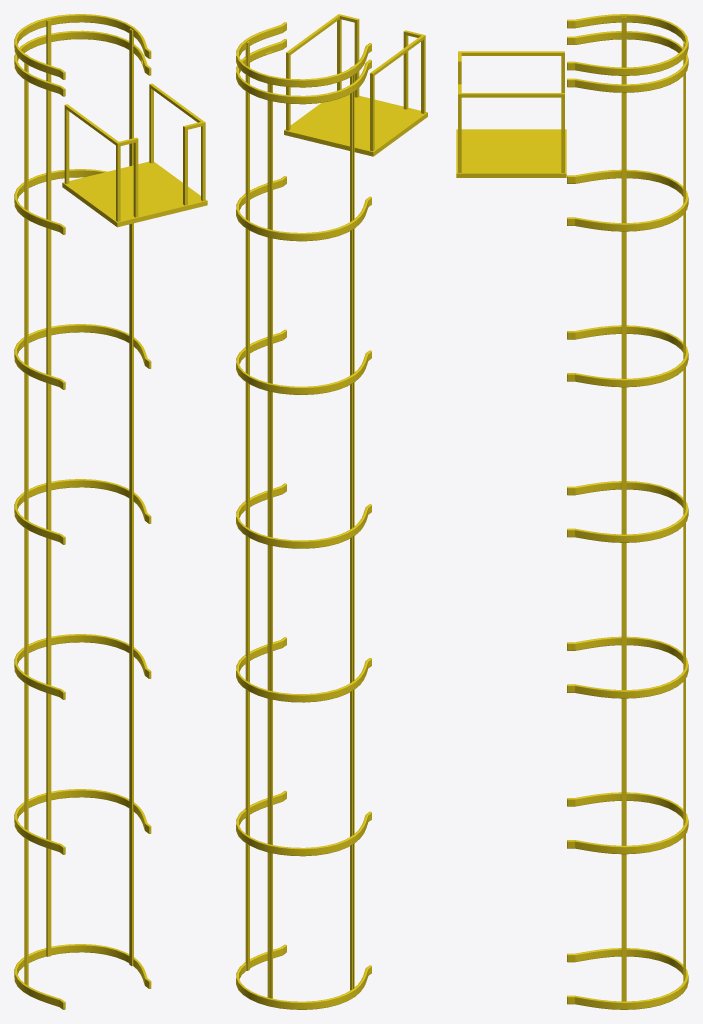
The model's file is LADDER.fbx.
The picture shows the model from 3 angles, left to right: view 1: azimuth 30°, elevation 25°; view 2: azimuth 150°, elevation 25°; view 3: azimuth 270°, elevation 25°; orthographic projection.
Visible parts, largest first — view 1: Monke back suppor.003, vertical strip 2.001, vertical strip 1.001, Cube.014, Monke back suppor.001, Cube.015, Cube.018, Cube.017; view 2: Monke back suppor.003, vertical strip 2.001, vertical strip 1.001, Cube.014, Monke back suppor.001, Cube.015, Cube.018, Cube.017; view 3: Monke back suppor.003, vertical strip 2.001, Cube.014, Monke back suppor.001, vertical strip 1.001, Cube.018, Cube.015.
Part boxes in pixels (box(x1,y1,x2,y2)): Monke back suppor.003: box(14, 169, 151, 1009); vertical strip 2.001: box(24, 28, 133, 985); vertical strip 1.001: box(46, 19, 51, 956); Cube.014: box(62, 161, 207, 227); Monke back suppor.001: box(14, 14, 151, 96); Cube.015: box(64, 87, 205, 221); Cube.018: box(64, 83, 205, 146); Cube.017: box(133, 129, 187, 217); Monke back suppor.003: box(236, 176, 371, 1009); vertical strip 2.001: box(245, 41, 354, 990); vertical strip 1.001: box(267, 84, 272, 998); Cube.014: box(284, 94, 427, 156); Monke back suppor.001: box(236, 22, 371, 104); Cube.015: box(286, 19, 425, 151); Cube.018: box(286, 14, 425, 76); Cube.017: box(354, 22, 408, 109); Monke back suppor.003: box(567, 169, 688, 1009); vertical strip 2.001: box(621, 16, 626, 1001); Cube.014: box(456, 129, 566, 177); Monke back suppor.001: box(567, 14, 688, 92); vertical strip 1.001: box(683, 41, 685, 981); Cube.018: box(458, 51, 564, 97); Cube.015: box(458, 56, 564, 172).
Bounding box in the file's own units: 76 × 609 × 136.
